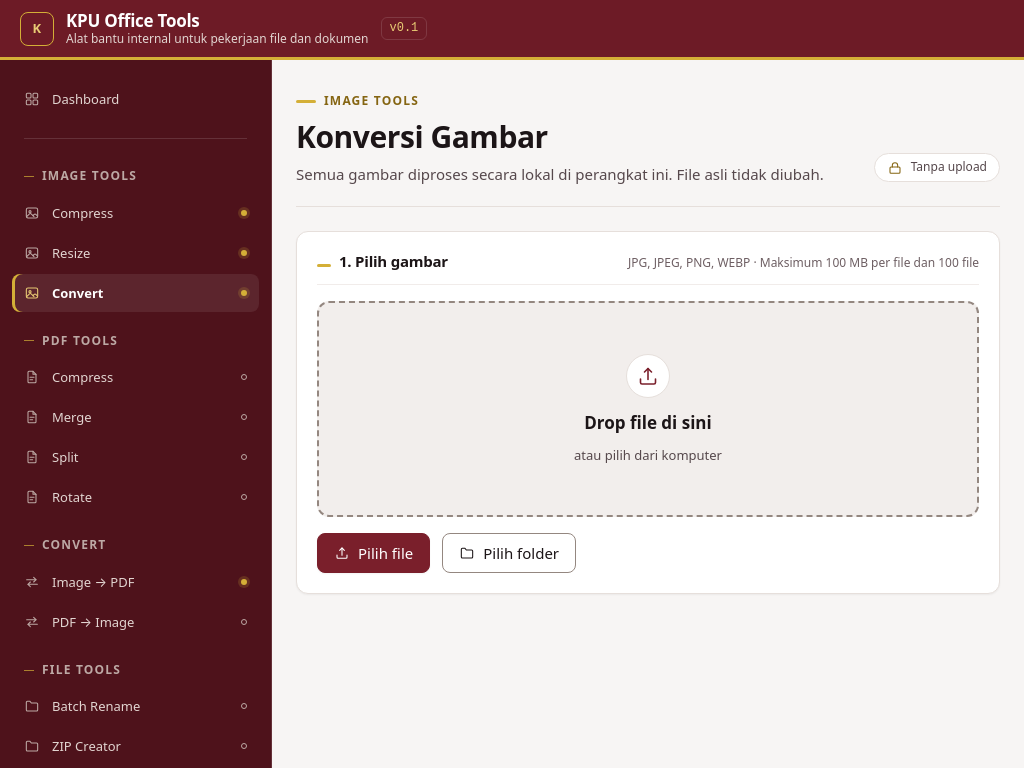
Test: Image Converter › membuka dialog native saat area Drop file di sini ditekan
The image size is (1024, 768).
Click the button "Drop file di sini atau pilih dari komputer" at (648, 409), box [317,301,979,517]
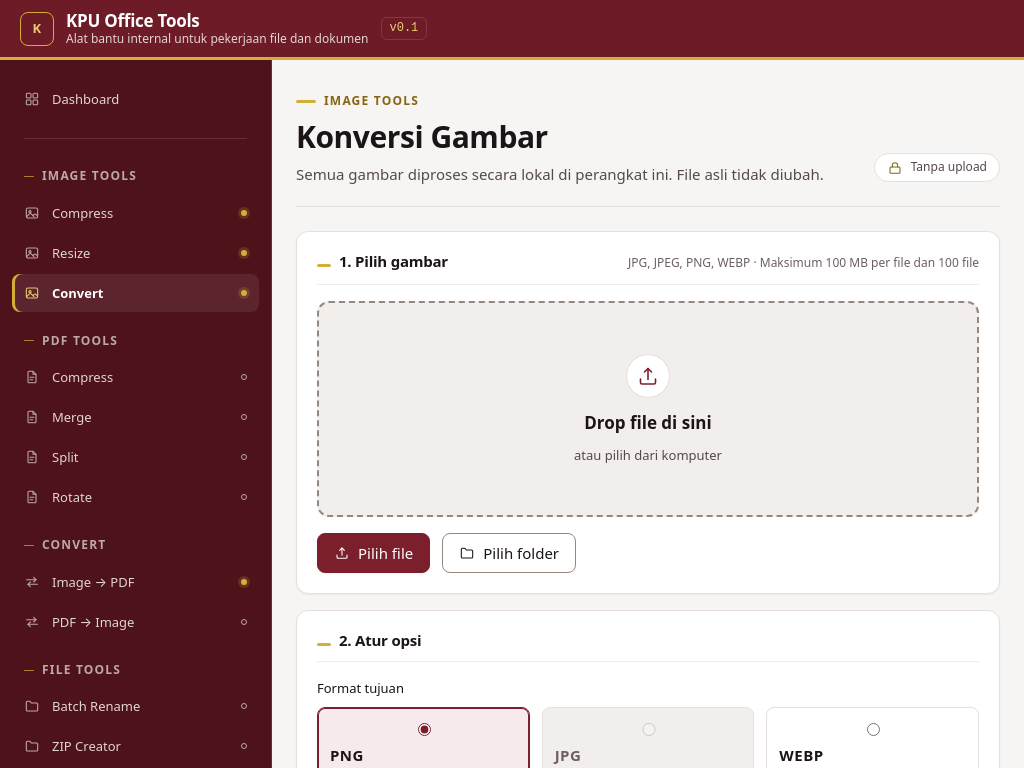
Result: the heading "2. Atur opsi" is shown at [317,631,421,649]
